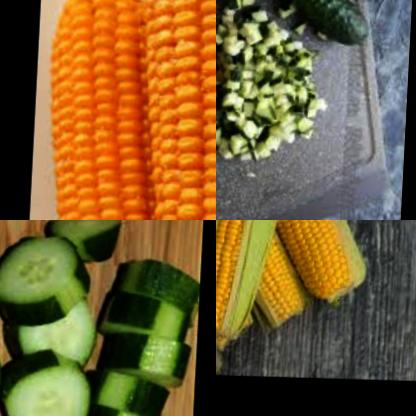corn: (36, 0, 182, 220), (129, 0, 216, 220), (261, 220, 374, 301), (216, 220, 292, 335), (244, 224, 320, 319)
cucumber: (216, 0, 334, 163), (100, 264, 203, 383), (0, 224, 99, 326), (7, 285, 108, 371), (1, 349, 100, 416), (254, 0, 385, 50), (83, 364, 180, 416), (44, 220, 128, 265)
